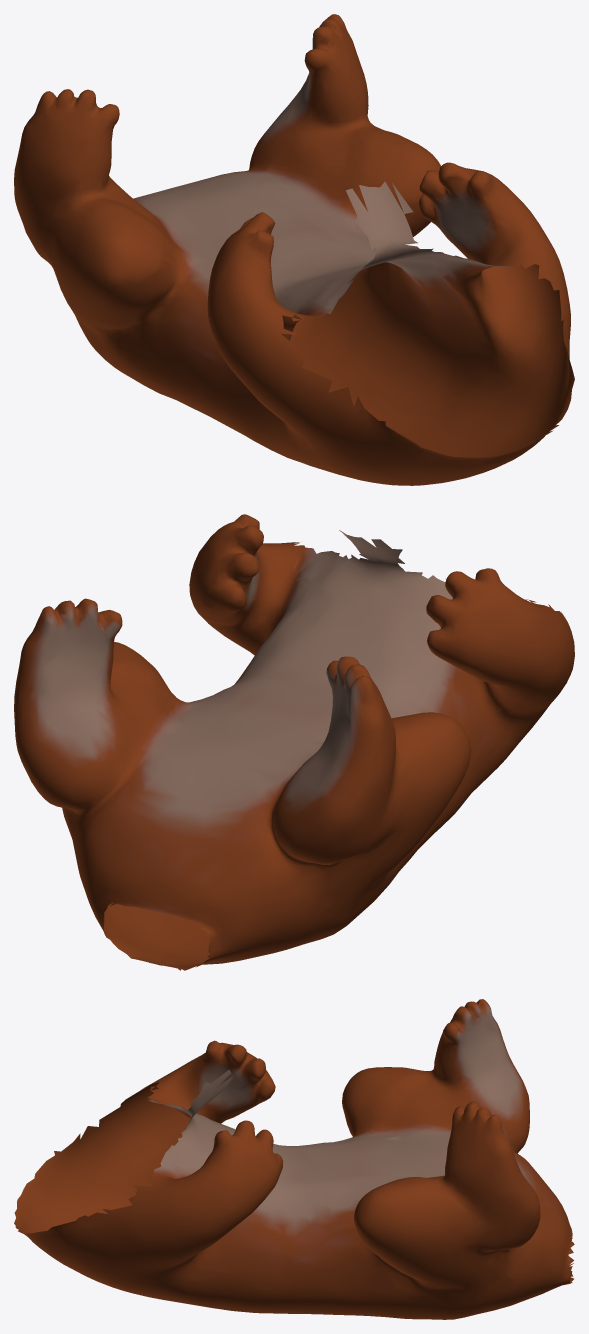
The model's file is sculpture_13.glb.
The picture shows the model from 3 angles, top to bottom: view 1: azimuth 30°, elevation 25°; view 2: azimuth 150°, elevation 25°; view 3: azimuth 270°, elevation 25°; orthographic projection. The views are drawn at different scales.
Parts seen in each view (by area): view 1: SCL_01_05; view 2: SCL_01_05; view 3: SCL_01_05.
Boxes of the visible parts, x1,y1,x2,y2 form: SCL_01_05: [14, 14, 574, 485]; SCL_01_05: [14, 514, 574, 970]; SCL_01_05: [14, 999, 574, 1319].
Size of the model in its own units: 0.5359 by 0.422 by 0.8878.
